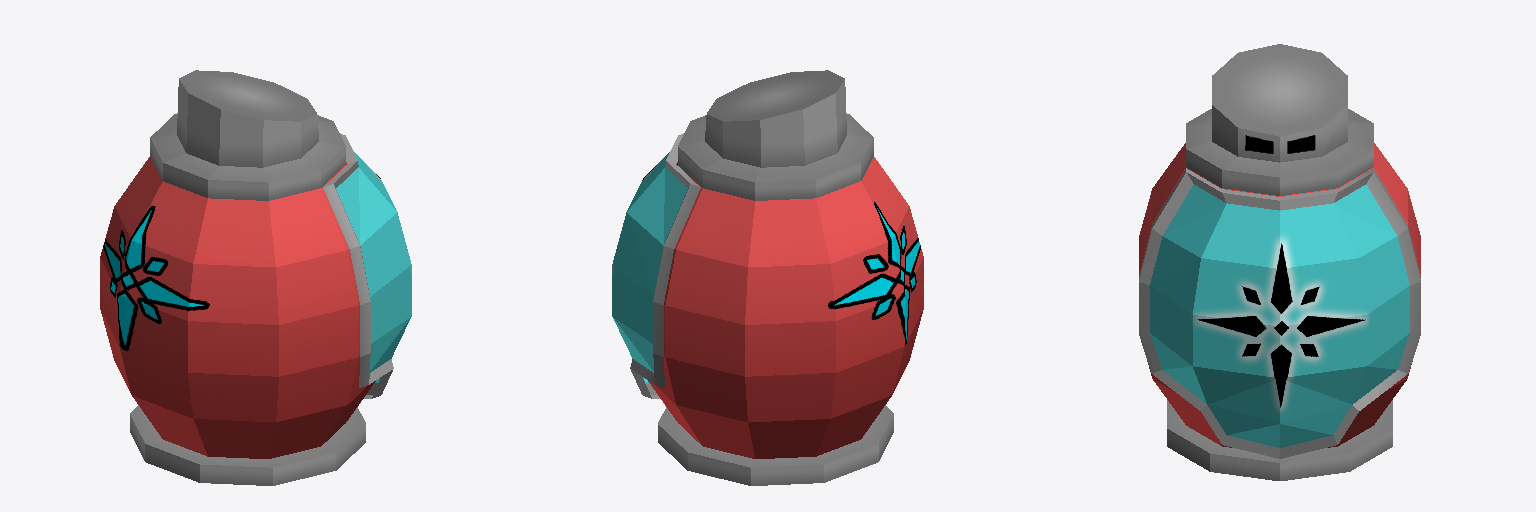
The picture shows the model from 3 angles: view 1: azimuth 30°, elevation 25°; view 2: azimuth 150°, elevation 25°; view 3: azimuth 270°, elevation 25°; orthographic projection.
Visible parts, largest first — view 1: Cylinder001, Object001; view 2: Cylinder001, Object001; view 3: Object001, Cylinder001.
Part boxes in pixels (bbox=[...]): Cylinder001: bbox=[100, 70, 375, 485]; Object001: bbox=[323, 133, 411, 398]; Cylinder001: bbox=[648, 70, 923, 485]; Object001: bbox=[612, 133, 700, 398]; Object001: bbox=[1139, 168, 1420, 458]; Cylinder001: bbox=[1139, 44, 1420, 480].
Size of the model in its own units: 0.7752 by 0.9711 by 0.6946.
2 materials, 2 textured.